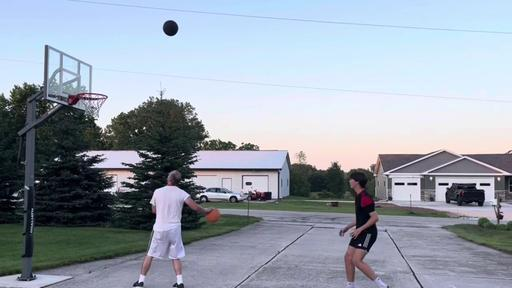ball: (162, 20, 179, 36), (206, 209, 220, 221)
human: (132, 170, 214, 288), (338, 173, 390, 288)
rim: (76, 92, 108, 120)
